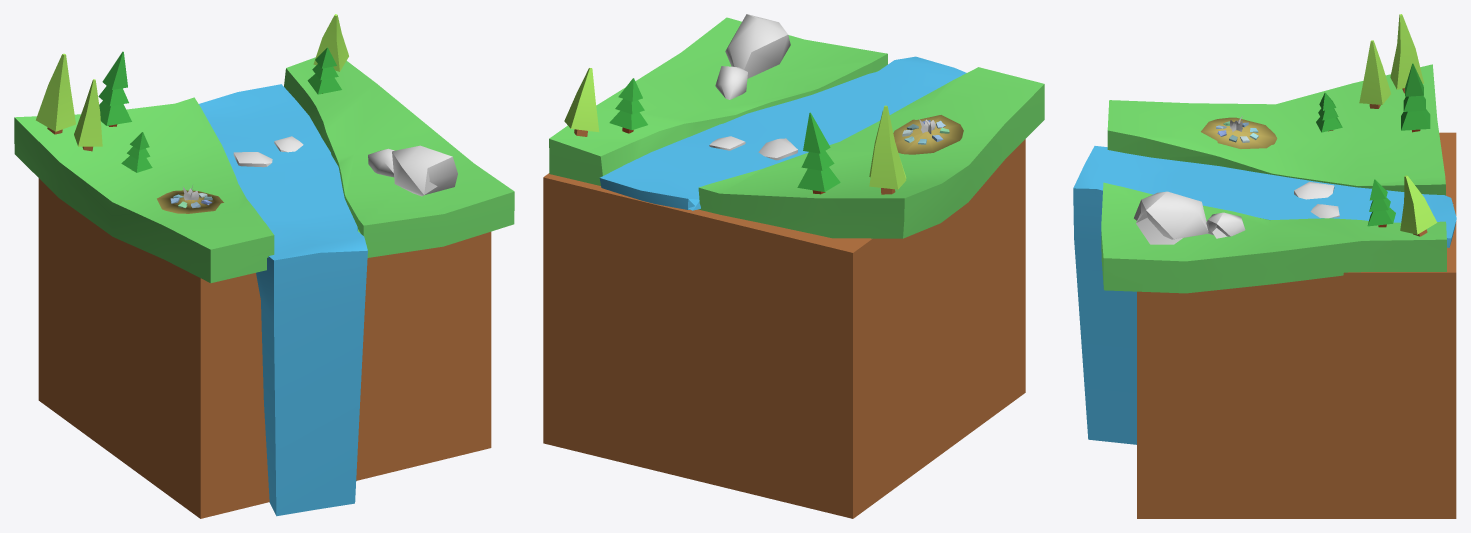
File: lowpoligons.fbx
The picture shows the model from 3 angles, left to right: view 1: azimuth 30°, elevation 25°; view 2: azimuth 150°, elevation 25°; view 3: azimuth 270°, elevation 25°; orthographic projection. The views are drawn at different scales.
Parts seen in each view (by area): view 1: mesh01; view 2: mesh01; view 3: mesh01.
Part boxes in pixels (box(x1,y1,x2,y2)): mesh01: box(14, 14, 514, 518); mesh01: box(543, 14, 1044, 518); mesh01: box(1073, 14, 1456, 518).
Bounding box in the file's own units: 1505 × 1582 × 1513.
